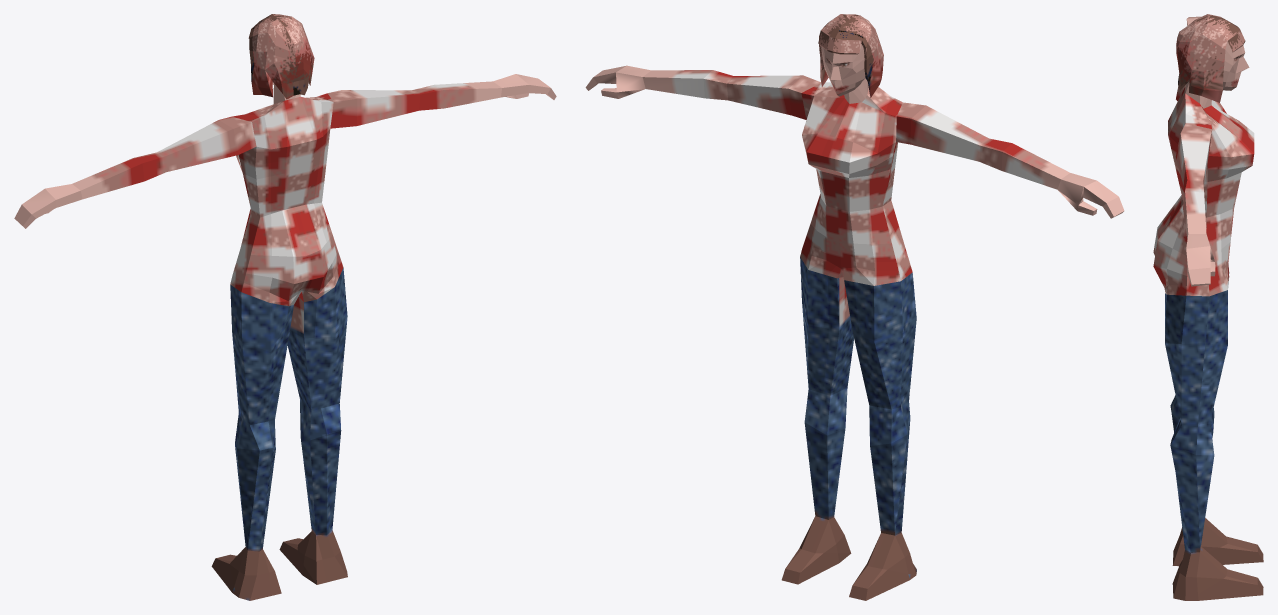
The model's file is HorrorJamApril20_3.fbx.
3 renders of one model, left to right at view 1: azimuth 30°, elevation 25°; view 2: azimuth 150°, elevation 25°; view 3: azimuth 270°, elevation 25°, orthographic.
Visible parts, largest first — view 1: Person.001; view 2: Person.001; view 3: Person.001.
Part boxes in pixels (left/top/right/bottom): Person.001: left=14, top=14, right=556, bottom=600; Person.001: left=585, top=14, right=1124, bottom=600; Person.001: left=1153, top=14, right=1263, bottom=600.
Bounding box in the file's own units: 376 × 376 × 67.41.
